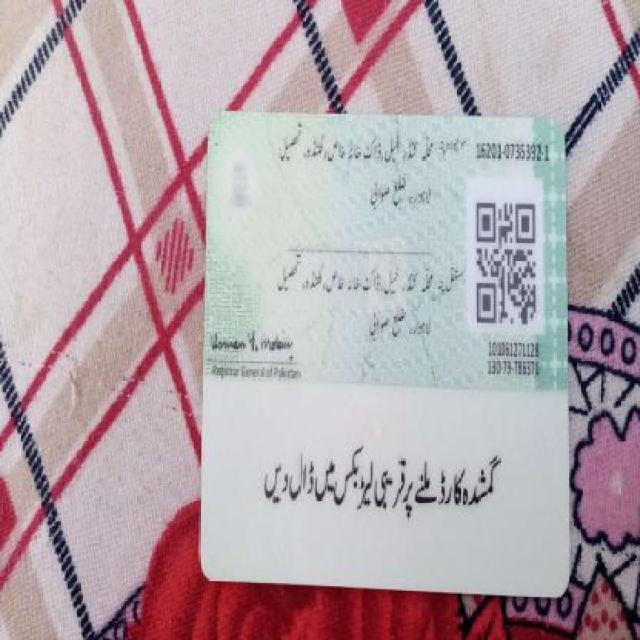Back: (195, 103, 574, 599)
